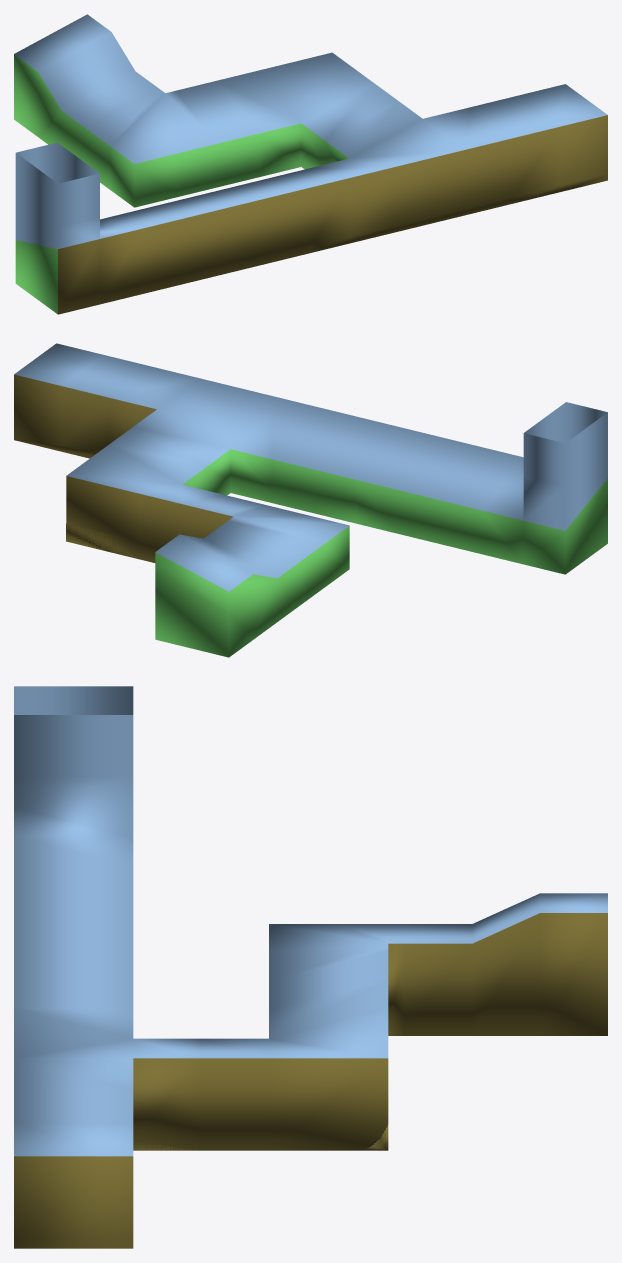
Rendered from test level.fbx.
3 renders of one model, top to bottom at view 1: azimuth 30°, elevation 25°; view 2: azimuth 150°, elevation 25°; view 3: azimuth 270°, elevation 25°, orthographic. The views are drawn at different scales.
Visible parts, largest first — view 1: Test_level; view 2: Test_level; view 3: Test_level.
Part boxes in pixels (x1,y1,x2,y2): Test_level: [14, 14, 607, 314]; Test_level: [14, 343, 607, 657]; Test_level: [14, 686, 607, 1248].
Bounding box in the file's own units: 3.47 × 0.7963 × 2.31.
